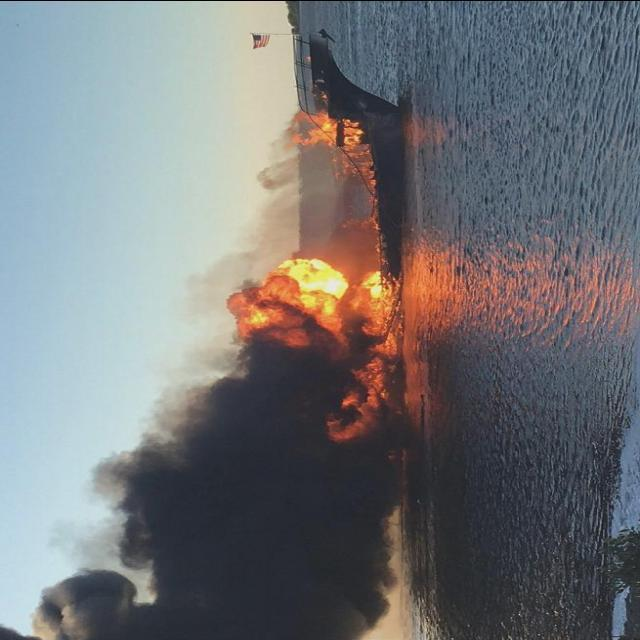Fire: (224, 267, 400, 407), (284, 114, 370, 158)
